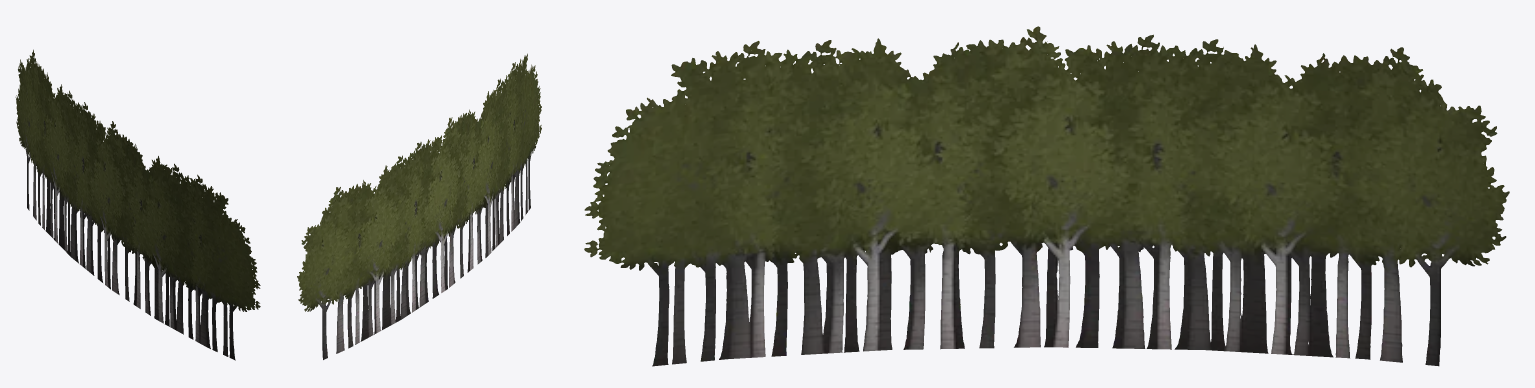
3 renders of one model, left to right at view 1: azimuth 30°, elevation 25°; view 2: azimuth 150°, elevation 25°; view 3: azimuth 270°, elevation 25°, orthographic. The views are drawn at different scales.
Visible parts, largest first — view 1: body0_model0_lod0_mesh0; view 2: body0_model0_lod0_mesh0; view 3: body0_model0_lod0_mesh0.
Part boxes in pixels (x1,y1,x2,y2): body0_model0_lod0_mesh0: (15,49,260,360); body0_model0_lod0_mesh0: (297,53,541,359); body0_model0_lod0_mesh0: (584,26,1509,366).
Bounding box in the file's own units: 2.61 × 15.14 × 39.04.
Materials: 1 (1 with a texture image).
